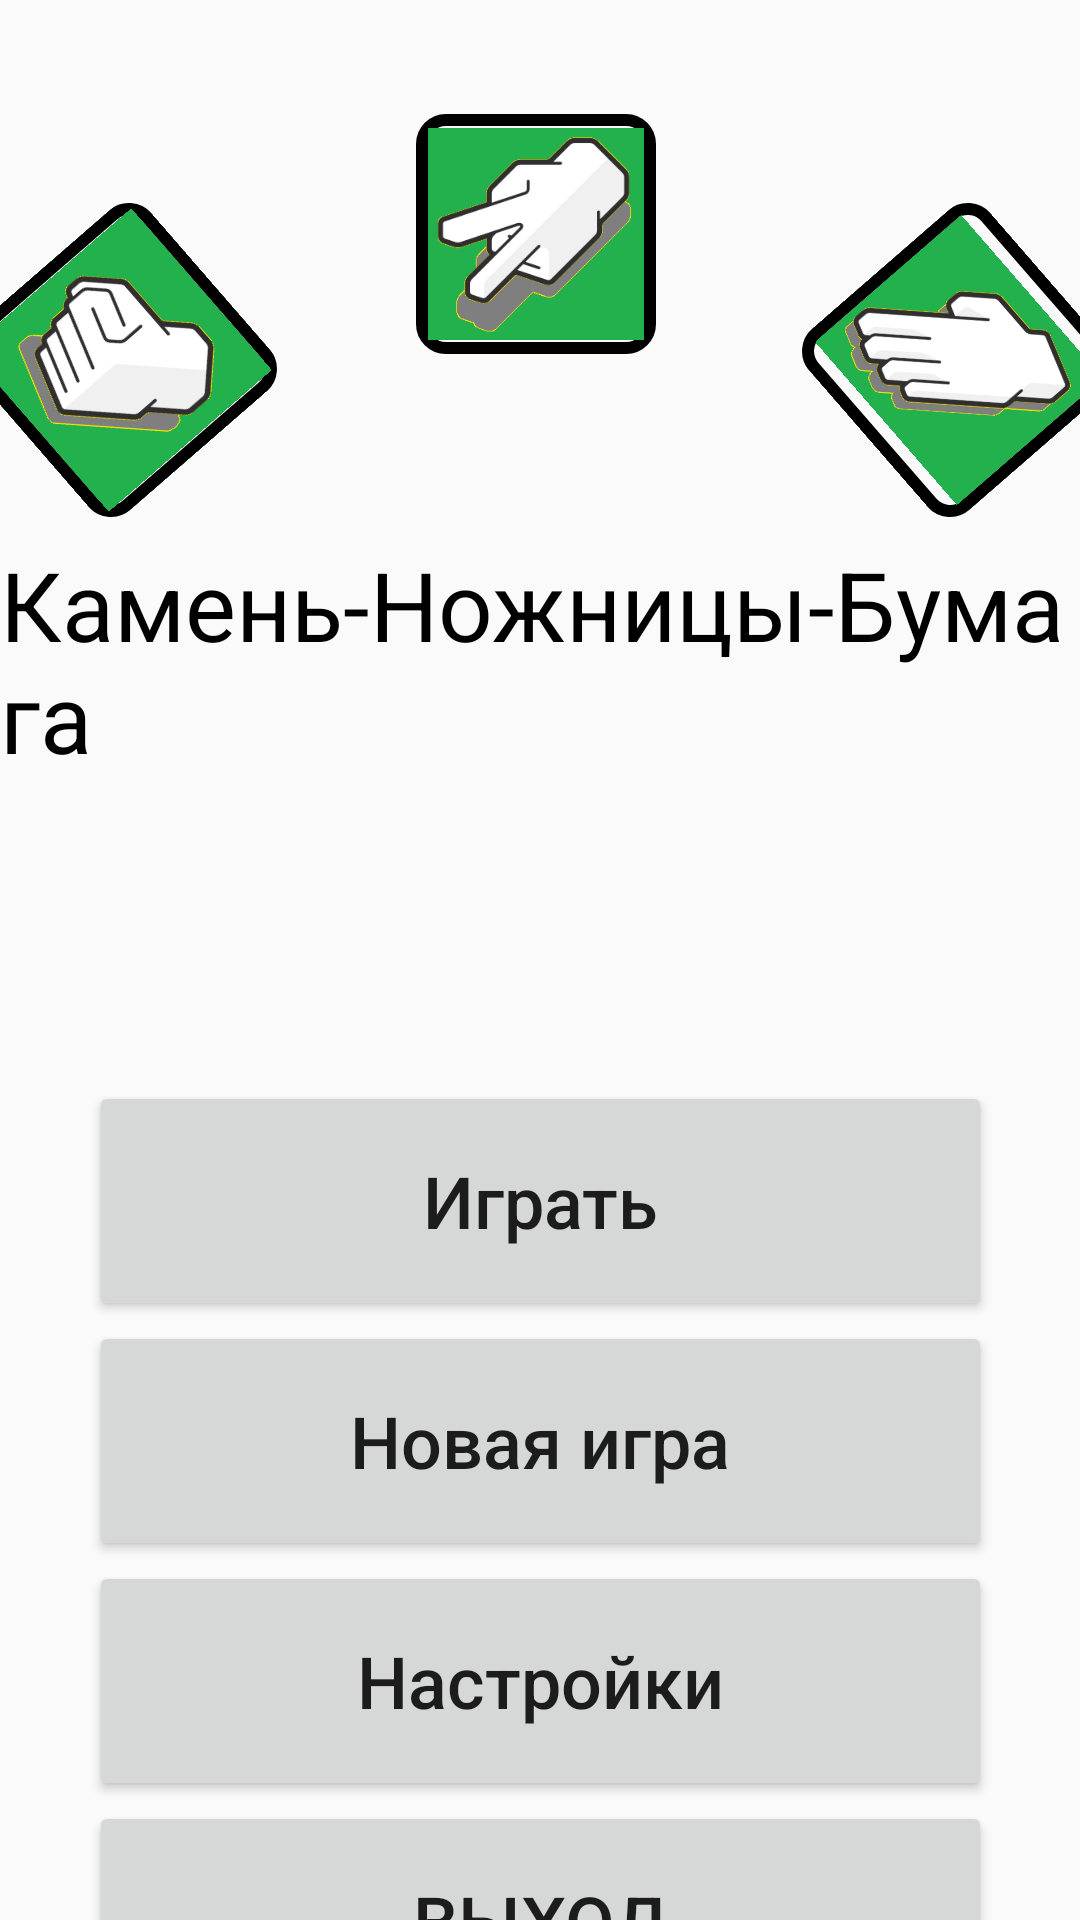

Screen size 1080px×1920px. Icon name, then its box in pixels as (x1, y1, x2, y2):
Scissors: (416, 114, 656, 354)
